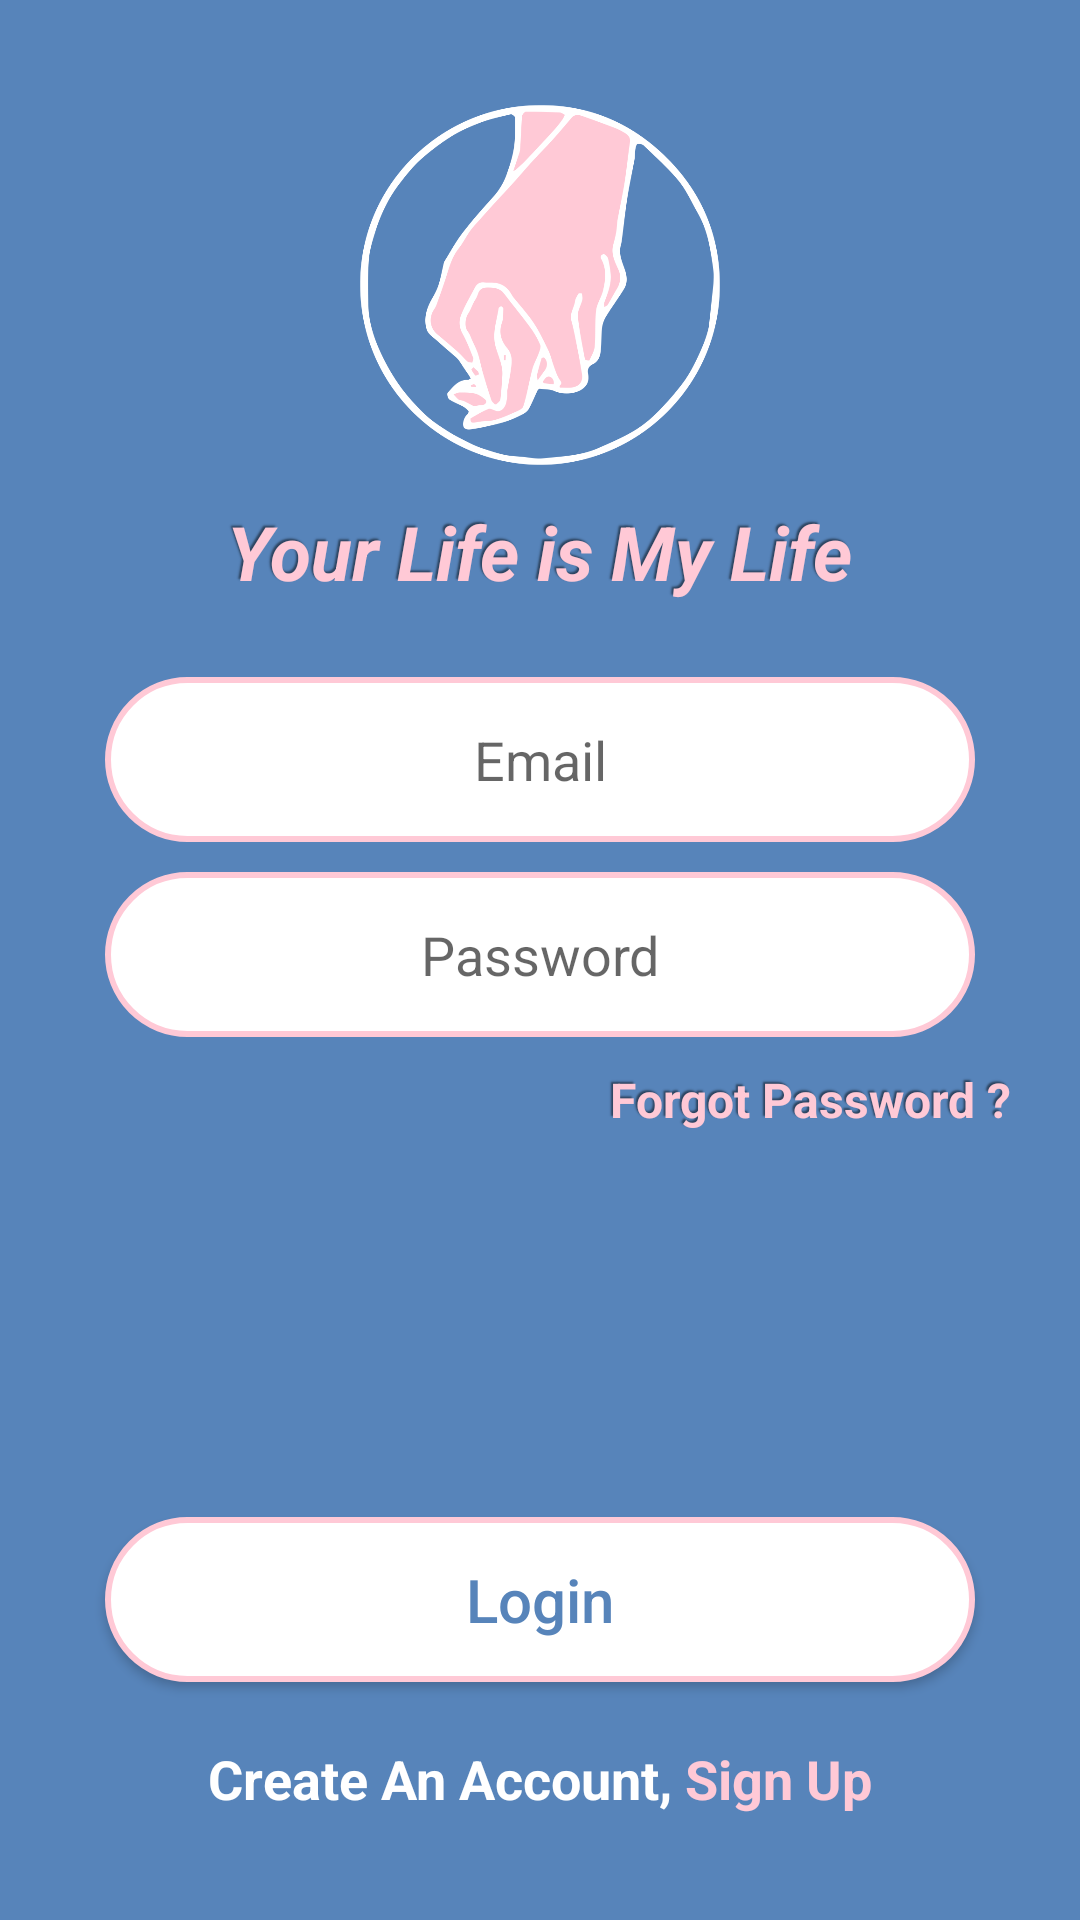

Point at icon controls on the screen. Image size 1080×1920, points as (x=x, y=y).
hands tran: (x=540, y=285)
